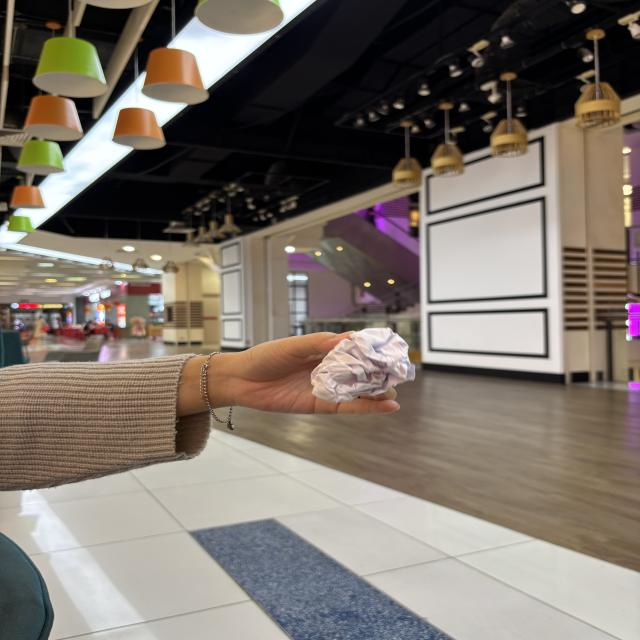crumpled_paper: (306, 322, 424, 410)
